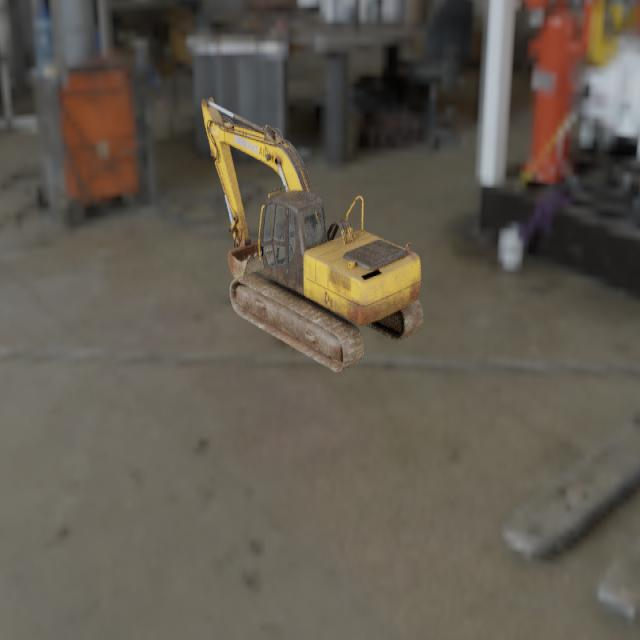excavator: (201, 96, 423, 372)
